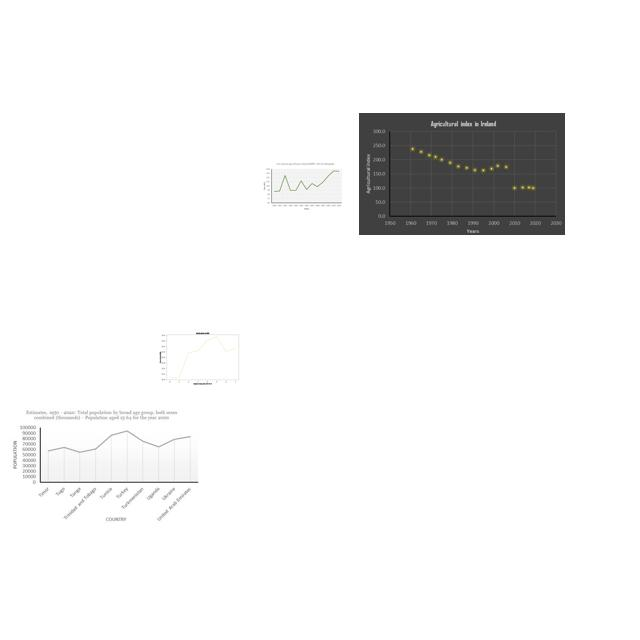Graph: (359, 113, 565, 235), (4, 405, 202, 523), (155, 325, 248, 389), (261, 162, 343, 211)
